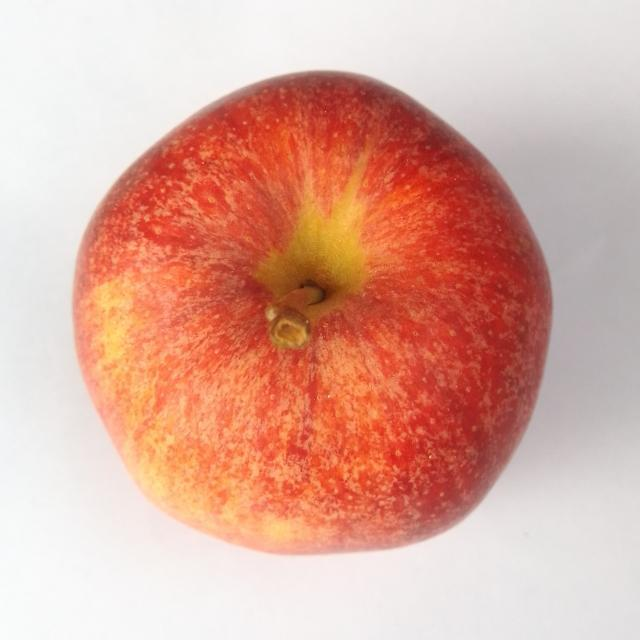Fresh Apple: (64, 61, 558, 566)
